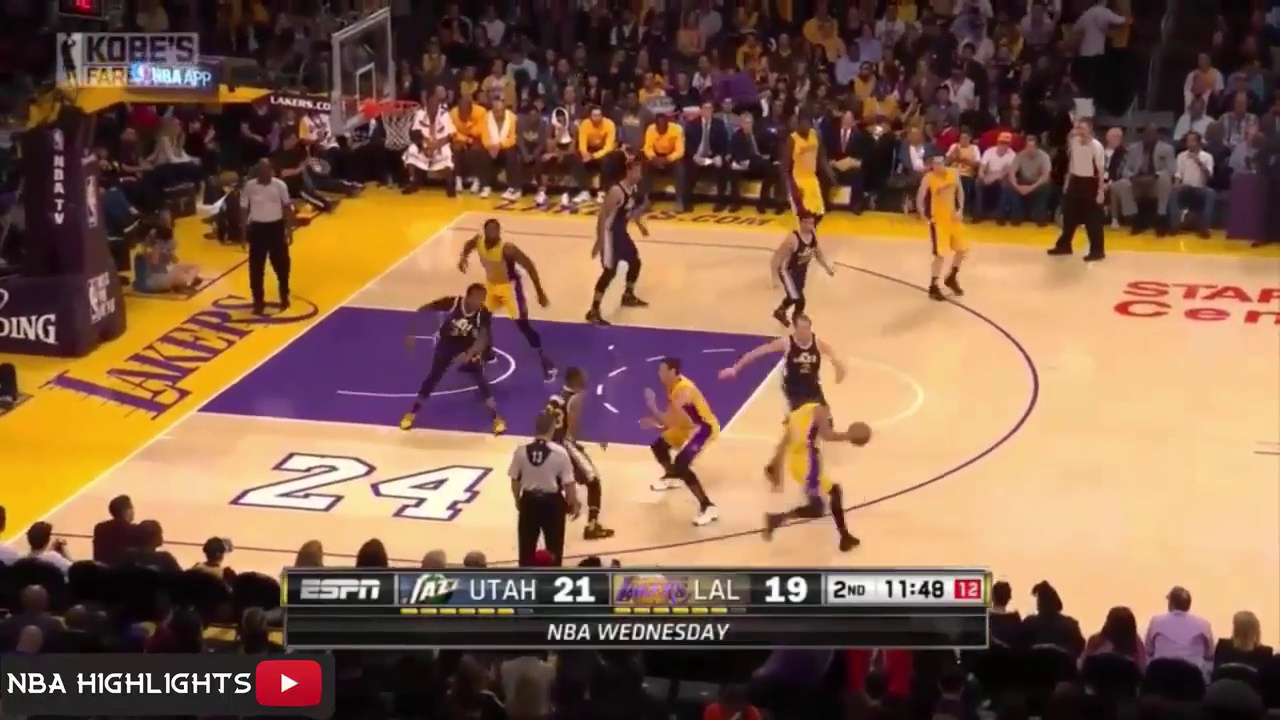jazz: (391, 285, 500, 432), (732, 314, 844, 407), (586, 163, 651, 323), (548, 370, 611, 533), (776, 215, 832, 330)
lakers: (763, 387, 873, 549), (639, 356, 721, 525), (466, 220, 556, 373), (921, 154, 972, 303), (780, 115, 832, 246)
